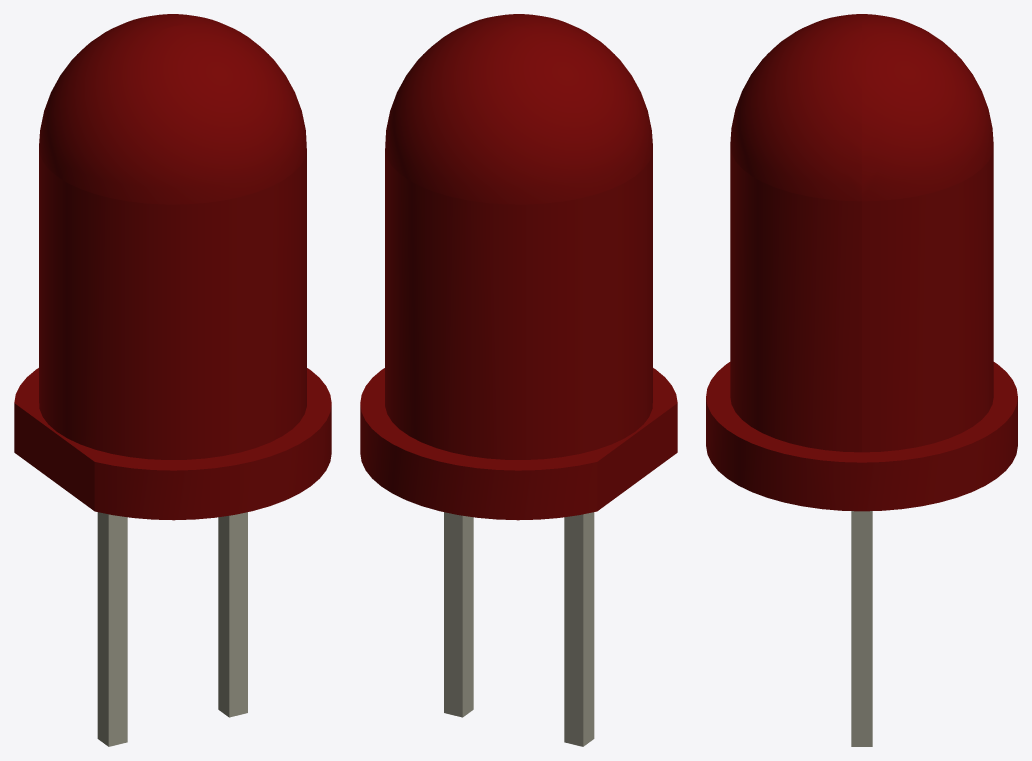
Rendered from led-5mm-red.glb.
3 renders of one model, left to right at view 1: azimuth 30°, elevation 25°; view 2: azimuth 150°, elevation 25°; view 3: azimuth 270°, elevation 25°, orthographic.
Size of the model in its own units: 5.4 by 14.1 by 5.8.
